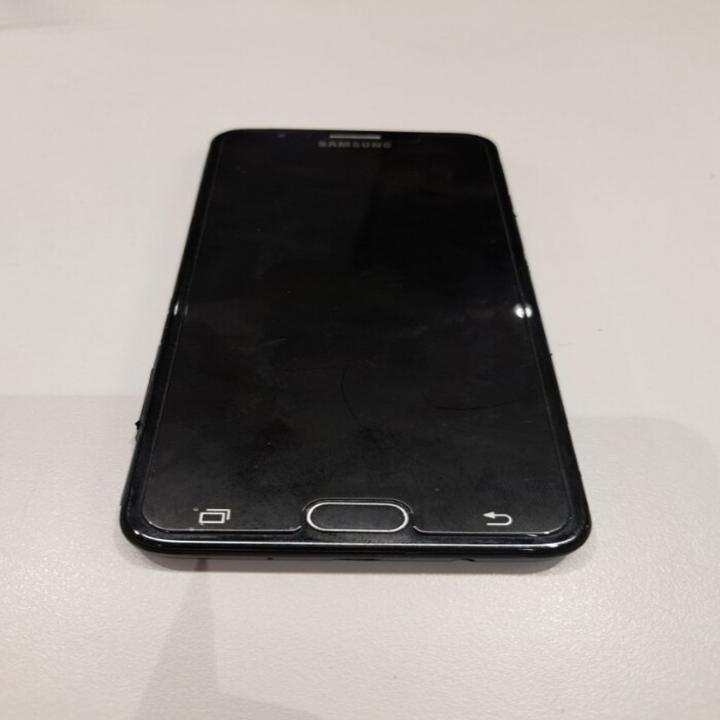phone good: (111, 101, 588, 617)
